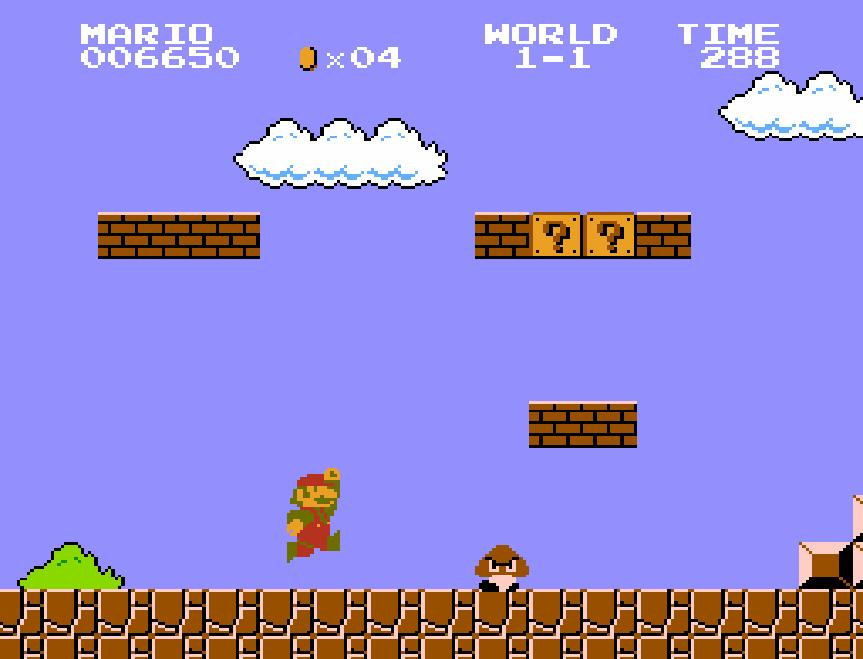big_mario: (284, 466, 342, 564)
